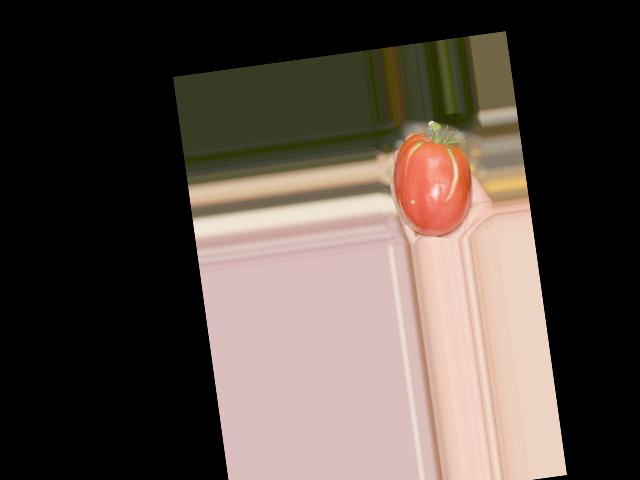tomato: (386, 127, 477, 241)
